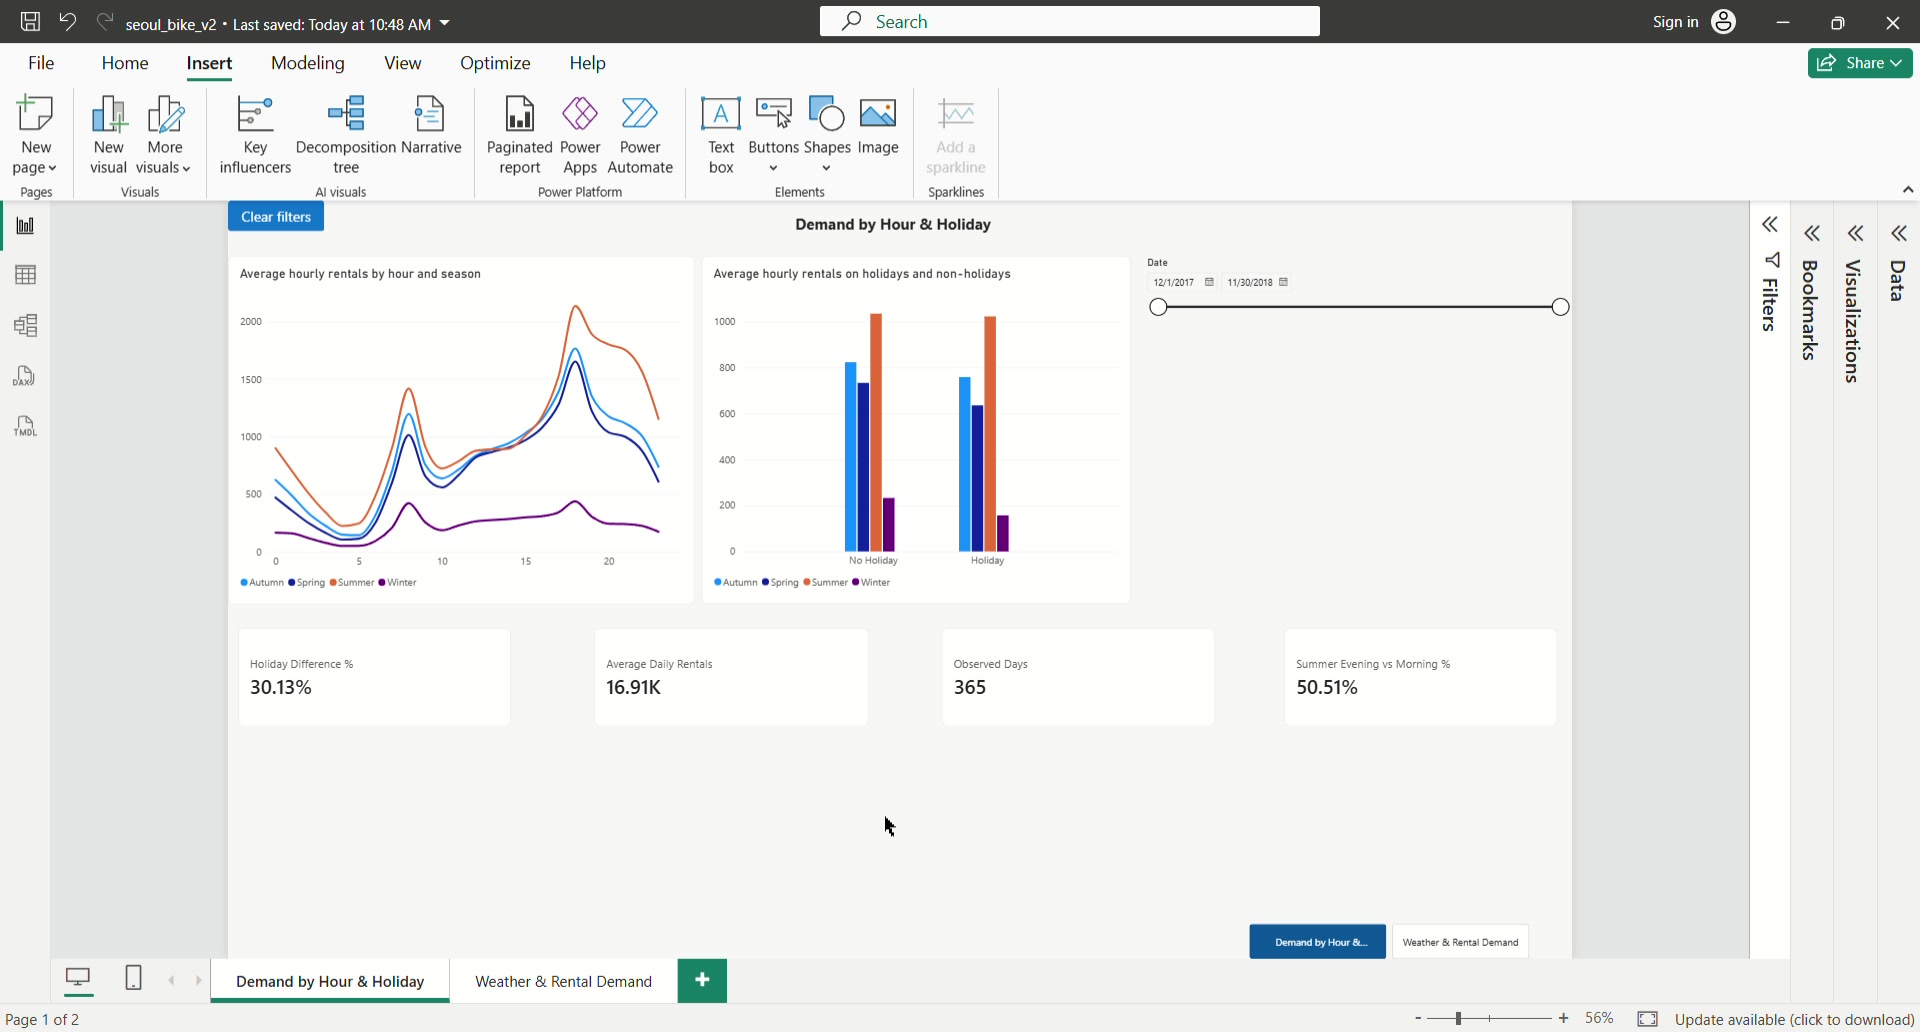

The page's visual inventory and layout, read from the dashboard file:
{"tool":"powerbi","page":{"name":"Demand by Hour & Holiday","canvas":[1920,1080],"ordinal":0},"visuals":[{"type":"lineChart","title":"Average hourly rentals by hour and season","fields":{"Category":["SeoulBikeData.Hour"],"Series":["SeoulBikeData.Seasons"],"Y":["Avg(SeoulBikeData.Rented Bike Count)"]},"box":[0,78.6,666.1,496.4],"z":0},{"type":"textbox","box":[0,0,1900.2,59.4],"z":1000},{"type":"clusteredColumnChart","title":"Average hourly rentals on holidays and non-holidays","fields":{"Category":["SeoulBikeData.Holiday"],"Series":["SeoulBikeData.Seasons"],"Y":["Avg(SeoulBikeData.Rented Bike Count)"]},"box":[676,79,613,496],"z":2000},{"type":"cardVisual","fields":{"Data":["SeoulBikeData.Holiday Difference %"]},"box":[14.4,608.8,390.8,140.5],"z":4000},{"type":"cardVisual","fields":{"Data":["SeoulBikeData.Observed Days"]},"box":[1019.4,608.8,390.8,140.5],"z":5000},{"type":"cardVisual","fields":{"Data":["SeoulBikeData.Average Daily Rentals"]},"box":[522.3,608.8,392.6,140.5],"z":6000},{"type":"cardVisual","fields":{"Data":["SeoulBikeData.Summer Evening vs Morning %"]},"box":[1509.3,608.8,390.8,140.5],"z":7000},{"type":"slicer","fields":{"Values":["Calendar.Date"]},"box":[1305.8,79.2,614.2,154.9],"z":7001},{"type":"pageNavigator","box":[1458.9,1030.4,400,50],"z":7002},{"type":"actionButton","box":[0,0,137.7,43.8],"z":7003}]}

Visuals, with their boxes on the page's 1920x1080 design canvas (x1, y1, x2, y2). These are canvas units, not pixel positions in the 1920x1032 screenshot, which may show the page scaled, cropped or inside an application window:
"Average hourly rentals by hour and season" lineChart: [0, 79, 666, 575]
textbox: [0, 0, 1900, 59]
"Average hourly rentals on holidays and non-holidays" clusteredColumnChart: [676, 79, 1289, 575]
cardVisual - SeoulBikeData.Holiday Difference %: [14, 609, 405, 749]
cardVisual - SeoulBikeData.Observed Days: [1019, 609, 1410, 749]
cardVisual - SeoulBikeData.Average Daily Rentals: [522, 609, 915, 749]
cardVisual - SeoulBikeData.Summer Evening vs Morning %: [1509, 609, 1900, 749]
slicer - Calendar.Date: [1306, 79, 1920, 234]
pageNavigator: [1459, 1030, 1859, 1080]
actionButton: [0, 0, 138, 44]
